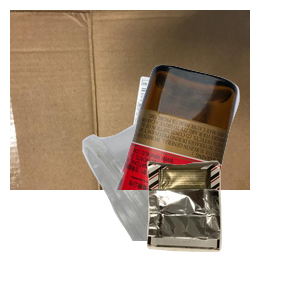cardboard: (10, 10, 250, 190)
glass: (113, 62, 300, 242)
plastic: (80, 120, 289, 300)
trash: (144, 158, 300, 300)
